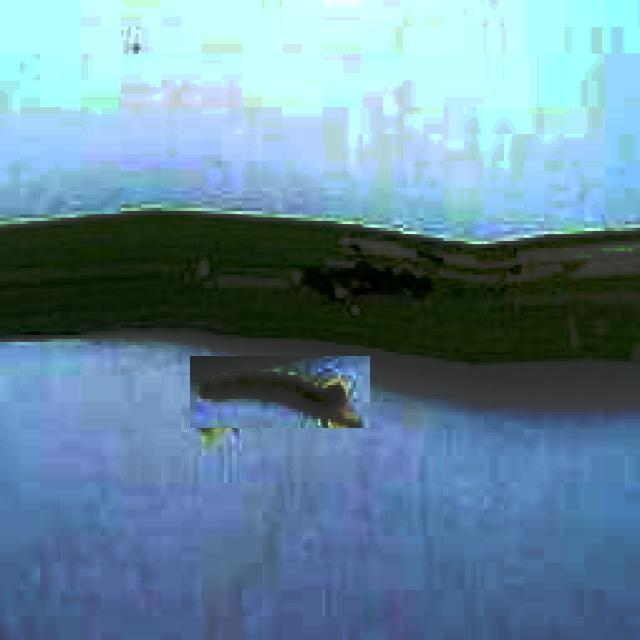leaf-folder: (190, 356, 370, 428)
